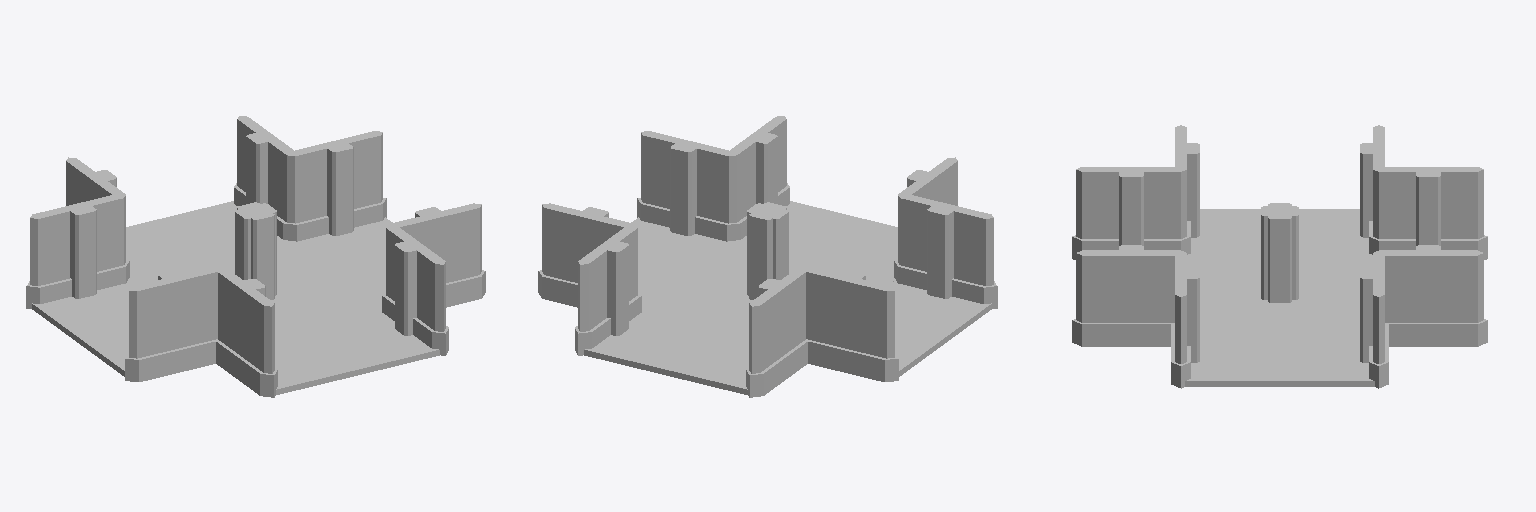
Rendered from intersection_4way_02.obj.
3 renders of one model, left to right at view 1: azimuth 30°, elevation 25°; view 2: azimuth 150°, elevation 25°; view 3: azimuth 270°, elevation 25°, orthographic.
Visible parts, largest first — view 1: wall_02_89, wall_02_88, wall_02_85, floor_04_82, floor_01_73, wall_02_87, wall_02_91, floor_04_80, wall_02_84, floor_04_81, wall_02_90, floor_04_79 (+2 smaller); view 2: wall_02_85, wall_02_84, wall_02_88, floor_04_80, floor_01_73, wall_02_86, wall_02_90, floor_04_82, wall_02_89, floor_04_81, wall_02_91, floor_04_79 (+2 smaller); view 3: floor_01_73, wall_02_90, wall_02_91, wall_02_86, wall_02_87, floor_04_79, floor_04_81, pillar_03_93, wall_02_84, wall_02_89, wall_02_85, wall_02_88.
Boxes of the visible parts, <box> form: wall_02_89: <box>283,131,386,241</box>; wall_02_88: <box>26,194,125,308</box>; wall_02_85: <box>125,266,223,381</box>; floor_04_82: <box>275,310,439,394</box>; floor_01_73: <box>121,238,383,341</box>; wall_02_87: <box>214,266,277,397</box>; wall_02_91: <box>382,225,448,355</box>; floor_04_80: <box>126,201,287,275</box>; wall_02_84: <box>384,203,485,307</box>; floor_04_81: <box>32,285,128,376</box>; wall_02_90: <box>234,116,296,238</box>; floor_04_79: <box>291,217,392,307</box>; wall_02_85: <box>894,194,997,308</box>; wall_02_84: <box>637,131,740,241</box>; wall_02_88: <box>805,266,898,381</box>; floor_04_80: <box>584,310,748,394</box>; floor_01_73: <box>642,239,893,341</box>; wall_02_86: <box>746,266,809,397</box>; wall_02_90: <box>575,224,641,355</box>; floor_04_82: <box>734,201,897,280</box>; wall_02_89: <box>538,203,640,307</box>; floor_04_81: <box>888,280,991,376</box>; wall_02_91: <box>727,116,789,238</box>; floor_04_79: <box>631,217,733,298</box>; floor_01_73: <box>1187,251,1372,338</box>; wall_02_90: <box>1374,245,1487,346</box>; wall_02_91: <box>1072,245,1180,346</box>; wall_02_86: <box>1369,167,1487,259</box>; wall_02_87: <box>1072,167,1186,259</box>; floor_04_79: <box>1185,334,1374,386</box>; floor_04_81: <box>1191,209,1368,254</box>; pillar_03_93: <box>1261,203,1298,302</box>; wall_02_84: <box>1171,251,1199,388</box>; wall_02_89: <box>1360,251,1388,388</box>; wall_02_85: <box>1175,125,1199,254</box>; wall_02_88: <box>1360,125,1384,240</box>.
Bounding box in the file's own units: 4.21 × 1 × 4.21.